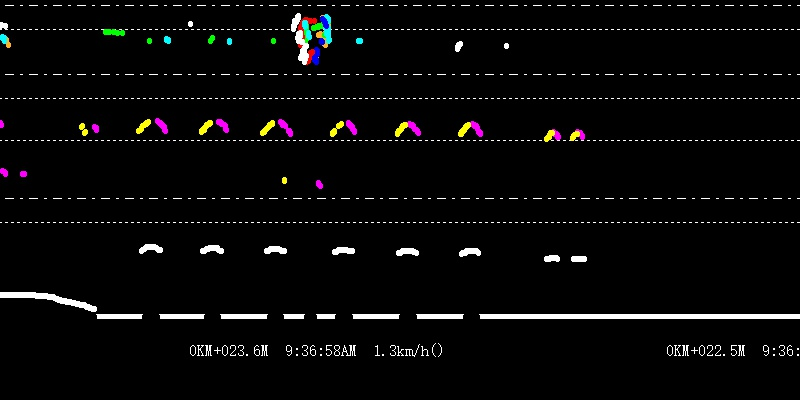J: (288, 2, 332, 66)
y_p: (124, 108, 492, 268)
